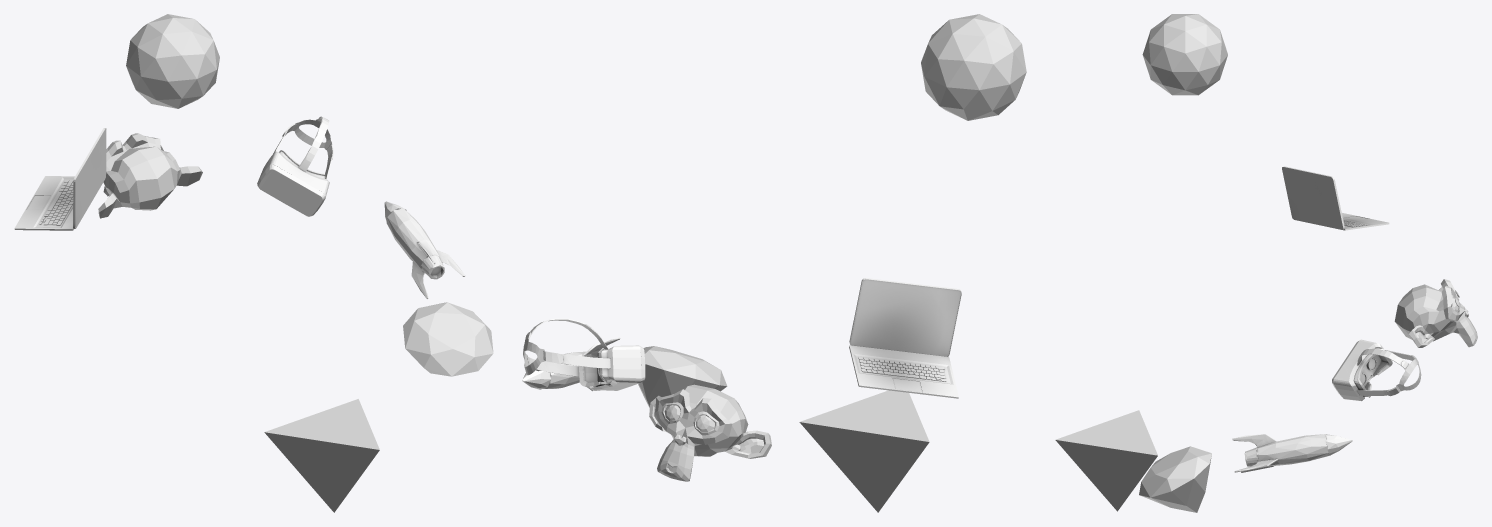
File: spiral_scroll_e.glb
3 renders of one model, left to right at view 1: azimuth 30°, elevation 25°; view 2: azimuth 150°, elevation 25°; view 3: azimuth 270°, elevation 25°, orthographic. The views are drawn at different scales.
Parts seen in each view (by area): view 1: Cone, Icosphere, Suzanne, Diamond, Notebook, VR Headset, Rocket.003; view 2: Notebook, Cone, Icosphere, Suzanne, VR Headset, Diamond, Rocket.003; view 3: Cone, Icosphere, Suzanne, Diamond, Notebook, VR Headset, Rocket.003.
Boxes of the visible parts, <box> form: Cone: <box>264,399,379,512</box>; Icosphere: <box>126,14,219,108</box>; Suzanne: <box>98,133,202,218</box>; Diamond: <box>403,302,493,376</box>; Notebook: <box>14,128,106,230</box>; VR Headset: <box>257,116,333,216</box>; Rocket.003: <box>384,201,464,298</box>; Notebook: <box>849,278,961,398</box>; Cone: <box>799,390,929,512</box>; Icosphere: <box>921,14,1026,120</box>; Suzanne: <box>649,384,771,481</box>; VR Headset: <box>523,318,645,390</box>; Diamond: <box>638,346,727,408</box>; Rocket.003: <box>522,337,620,391</box>; Cone: <box>1055,410,1157,511</box>; Icosphere: <box>1142,14,1227,95</box>; Suzanne: <box>1394,279,1477,347</box>; Diamond: <box>1139,446,1211,512</box>; Notebook: <box>1282,166,1389,230</box>; VR Headset: <box>1332,339,1421,401</box>; Rocket.003: <box>1232,434,1352,472</box>.
Bounding box in the file's own units: 21.61 × 26.05 × 22.56.
7 materials, 3 textured.
